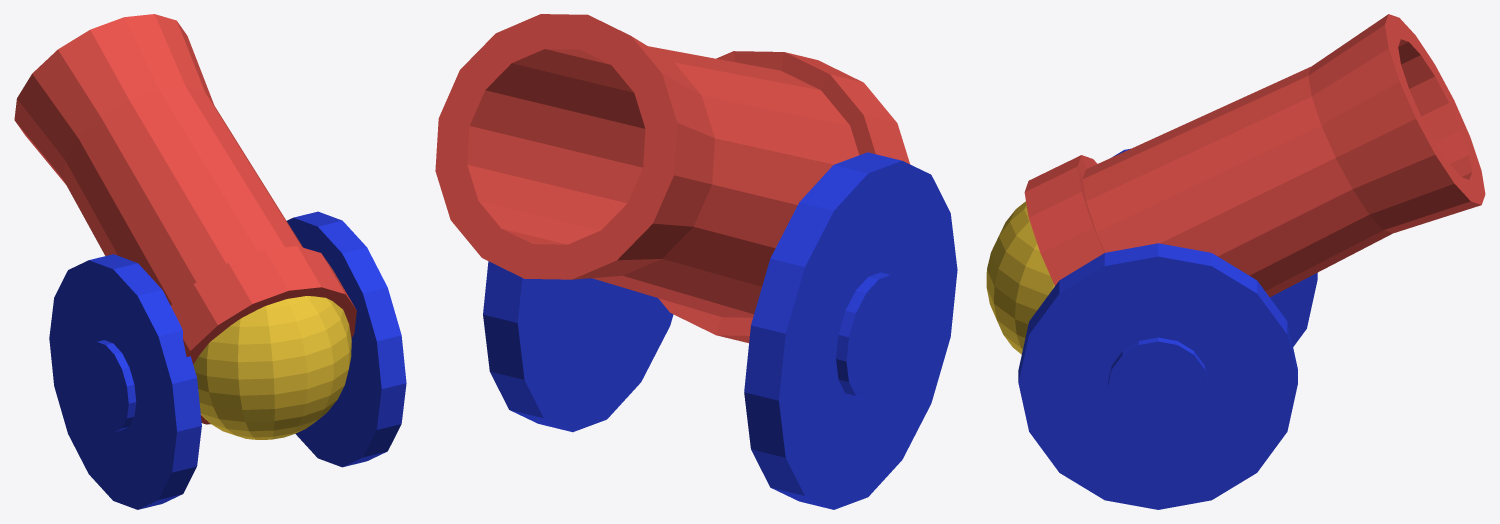
File: canon.fbx
3 renders of one model, left to right at view 1: azimuth 30°, elevation 25°; view 2: azimuth 150°, elevation 25°; view 3: azimuth 270°, elevation 25°, orthographic. The views are drawn at different scales.
Parts seen in each view (by area): view 1: Cylinder, Circle, Sphere, Circle.001; view 2: Cylinder, Circle, Circle.001; view 3: Cylinder, Circle.001, Sphere, Circle.
Boxes of the visible parts, bbox=[...] form: Cylinder: bbox=[14, 14, 356, 424]; Circle: bbox=[49, 254, 201, 509]; Sphere: bbox=[193, 296, 351, 439]; Circle.001: bbox=[287, 211, 406, 467]; Cylinder: bbox=[435, 14, 910, 342]; Circle: bbox=[744, 152, 957, 509]; Circle.001: bbox=[483, 261, 673, 432]; Cylinder: bbox=[1024, 14, 1485, 296]; Circle.001: bbox=[1018, 243, 1297, 509]; Sphere: bbox=[986, 201, 1054, 354]; Circle: bbox=[1111, 148, 1317, 346].
Size of the model in its own units: 300 by 473 by 503.
